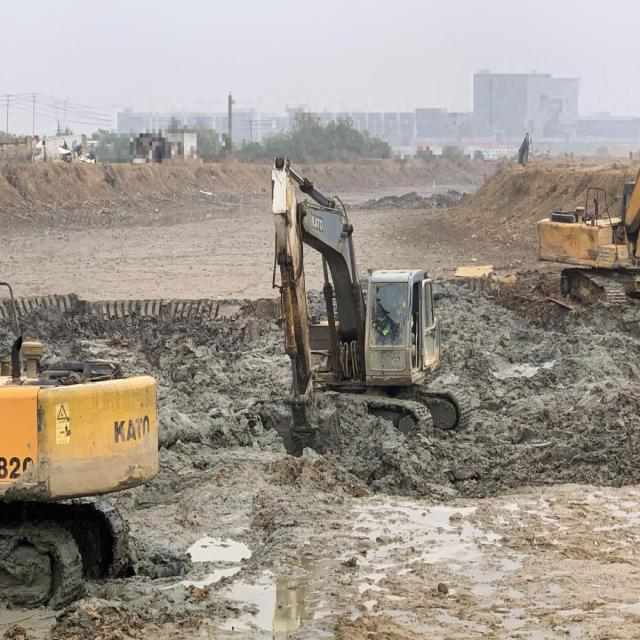excavator: (262, 144, 477, 455), (0, 264, 166, 624), (526, 168, 640, 317)
